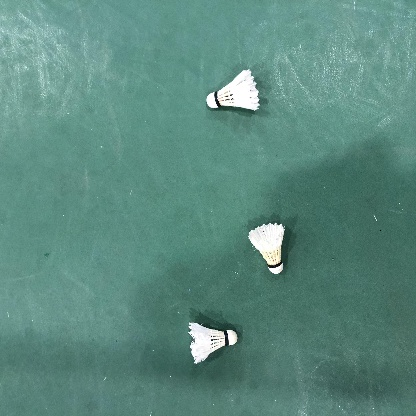ball_single: (206, 69, 260, 110), (188, 323, 238, 364), (248, 222, 285, 274)
